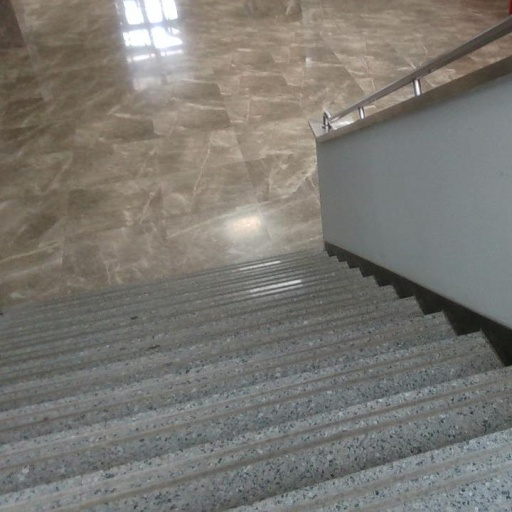Stairs: (0, 254, 512, 512)
